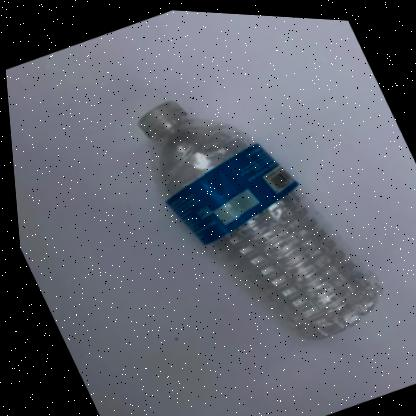Plastic: (135, 97, 376, 335)
